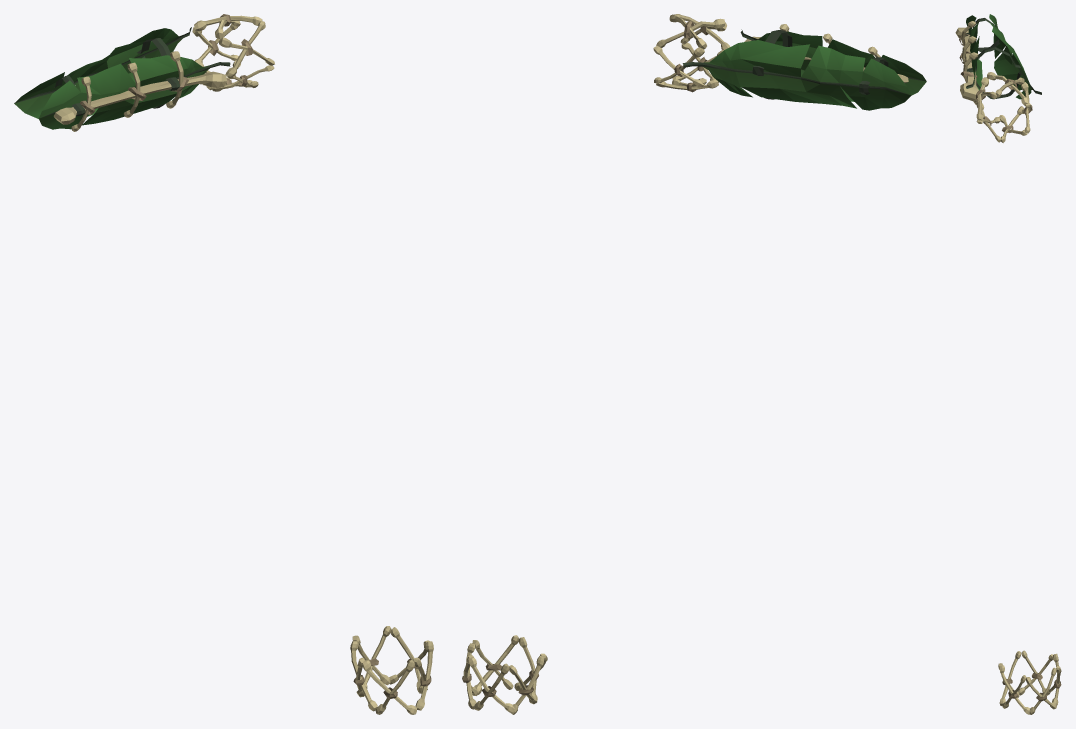
Rendered from tribeWarriorSimpleFemale.glb.
3 renders of one model, left to right at view 1: azimuth 30°, elevation 25°; view 2: azimuth 150°, elevation 25°; view 3: azimuth 270°, elevation 25°, orthographic. The views are drawn at different scales.
Parts seen in each view (by area): view 1: tribeWarriorSimpleLowerArm, tribeWarriorSimpleLowerLeg, tribeWarriorSimpleUpperArm; view 2: tribeWarriorSimpleLowerArm, tribeWarriorSimpleLowerLeg, tribeWarriorSimpleUpperArm; view 3: tribeWarriorSimpleLowerArm, tribeWarriorSimpleLowerLeg, tribeWarriorSimpleUpperArm.
Boxes of the visible parts, bbox=[...] form: tribeWarriorSimpleLowerArm: bbox=[14, 27, 230, 131]; tribeWarriorSimpleLowerLeg: bbox=[350, 626, 433, 714]; tribeWarriorSimpleUpperArm: bbox=[192, 14, 274, 91]; tribeWarriorSimpleLowerArm: bbox=[682, 24, 926, 110]; tribeWarriorSimpleLowerLeg: bbox=[462, 635, 547, 714]; tribeWarriorSimpleUpperArm: bbox=[653, 14, 730, 92]; tribeWarriorSimpleLowerArm: bbox=[955, 14, 1041, 100]; tribeWarriorSimpleLowerLeg: bbox=[998, 650, 1061, 714]; tribeWarriorSimpleUpperArm: bbox=[973, 72, 1032, 142].
Size of the model in its own units: 0.7717 by 1.25 by 0.2136.
